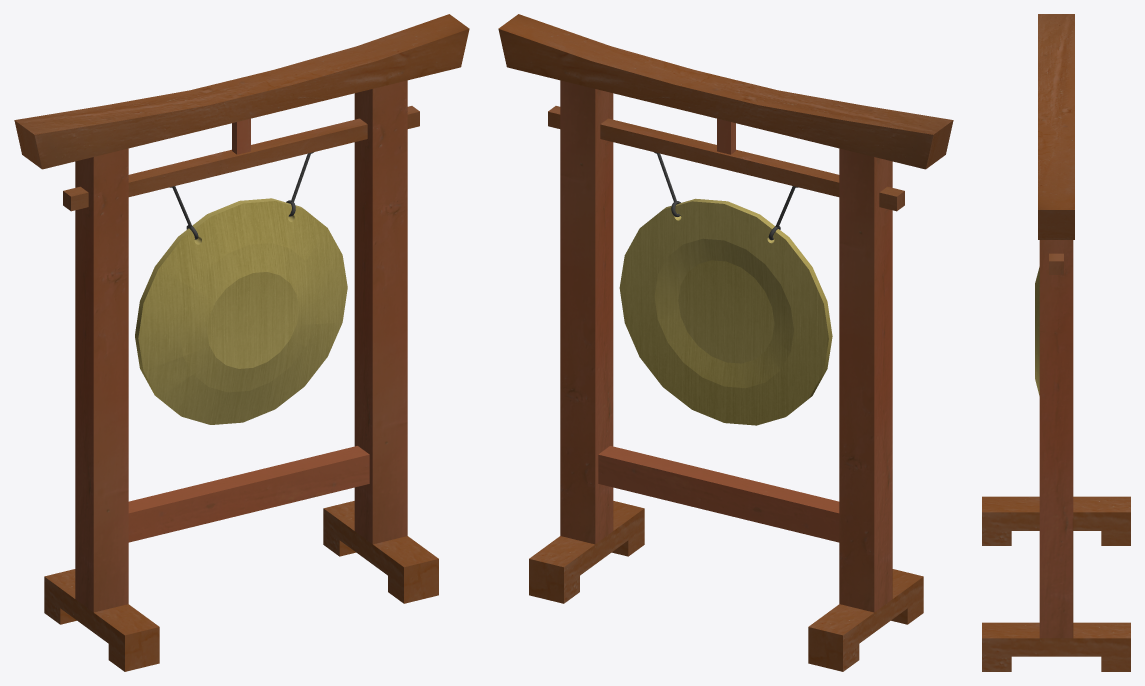
The model's file is Gong.fbx.
3 views of the same model, side by side, from view 1: azimuth 30°, elevation 25°; view 2: azimuth 150°, elevation 25°; view 3: azimuth 270°, elevation 25° (orthographic). The views are drawn at different scales.
Parts seen in each view (by area): view 1: pasted__pCube7; view 2: pasted__pCube7; view 3: pasted__pCube7.
Boxes of the visible parts, x1,y1,x2,y2 form: pasted__pCube7: (14,14,469,671); pasted__pCube7: (498,14,953,671); pasted__pCube7: (982,14,1130,671).
Bounding box in the file's own units: 12.46 × 14.5 × 4.
Materials: 1 (1 with a texture image).
